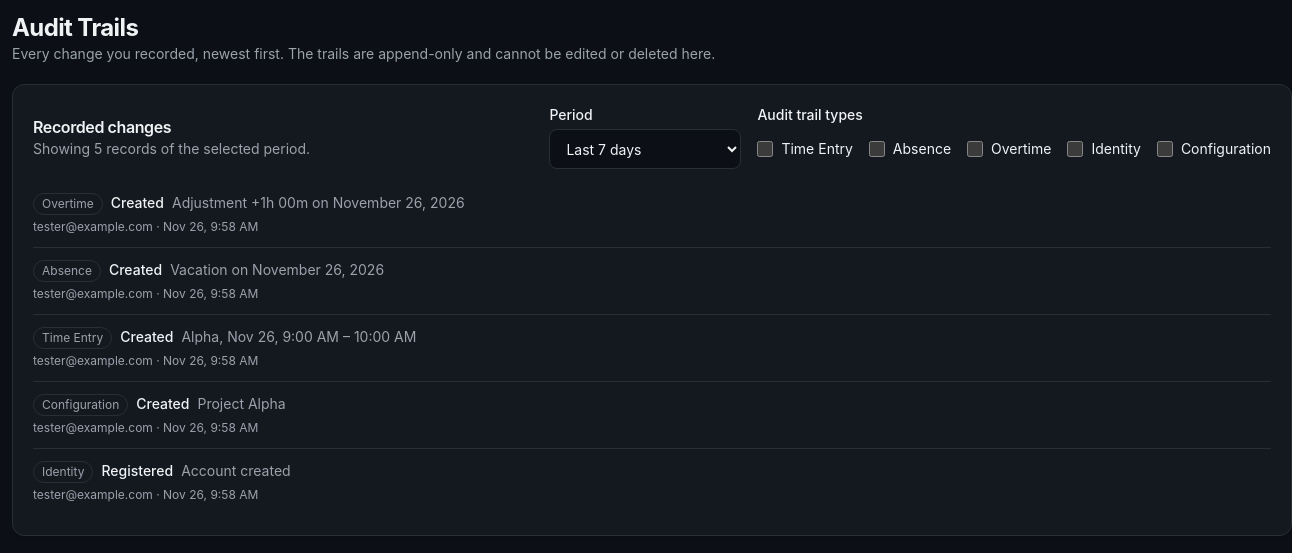
Test case: AuditTrailsPage › filters on a single type and on several types at once
Expected: the number of list items is 5, [33,181,1271,248]; [33,248,1271,315]; [33,315,1271,382]; [33,382,1271,449]; [33,461,291,502]
Click the checkbox labelled "Overtime": (975, 149) [967,141,983,157]
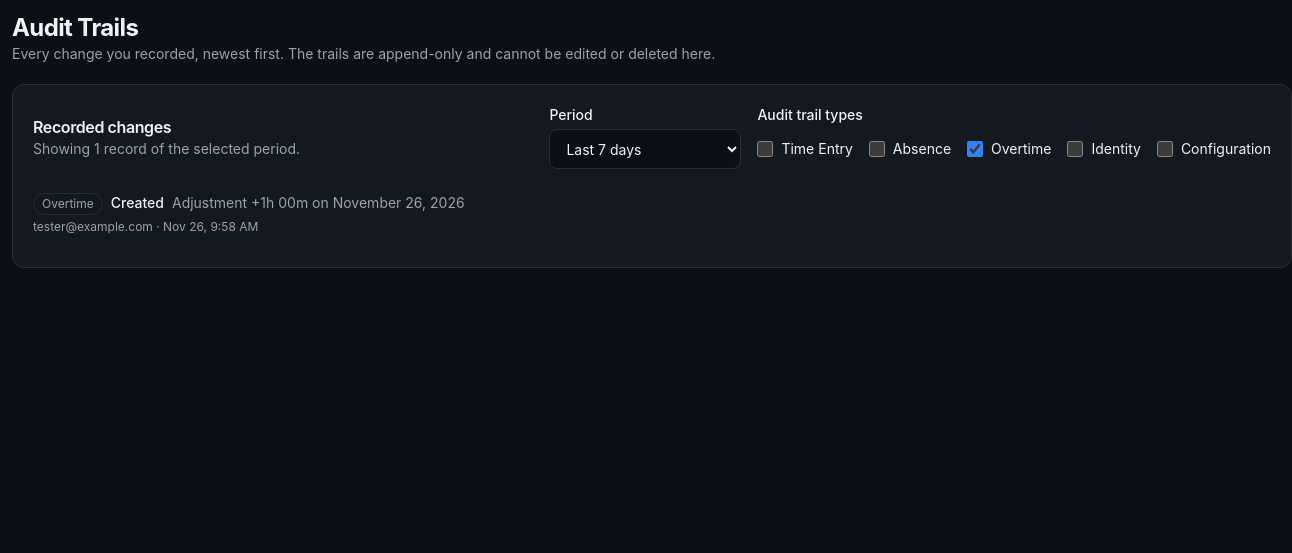
Expected: the text "Overtime" is shown, [33,193,103,215]
Now the number of list items is 1, box [33,193,465,234]
Click the checkbox labelled "Absence": (877, 149) [869,141,885,157]
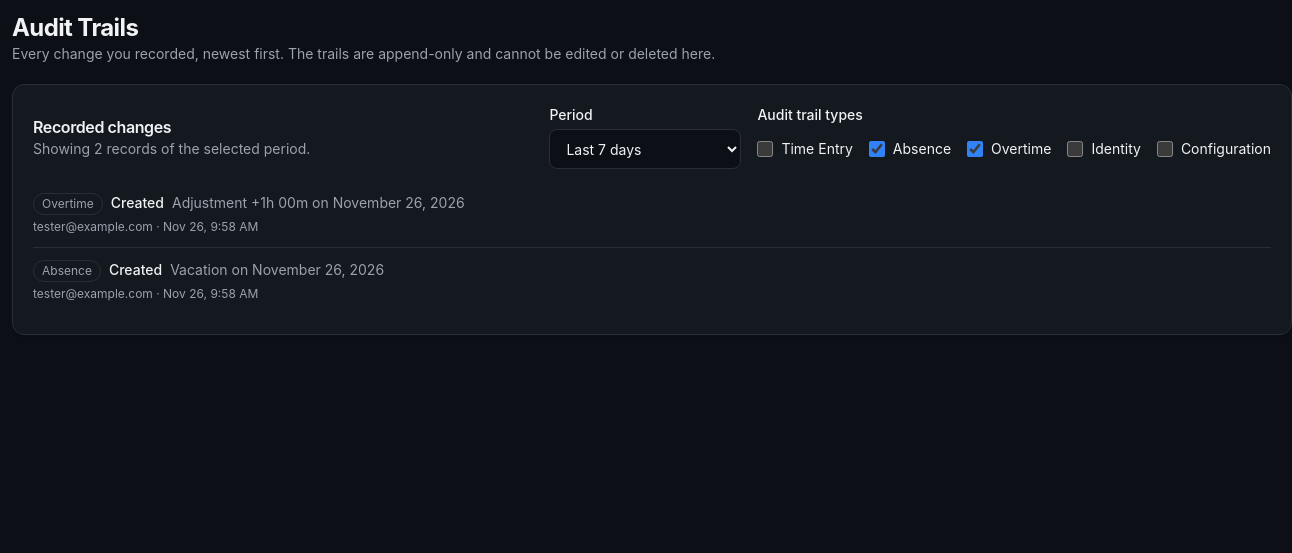
Now the number of list items is 2, box [33,181,1271,248]; [33,260,384,301]
Click the checkbox labelled "Overtime": (975, 149) [967,141,983,157]
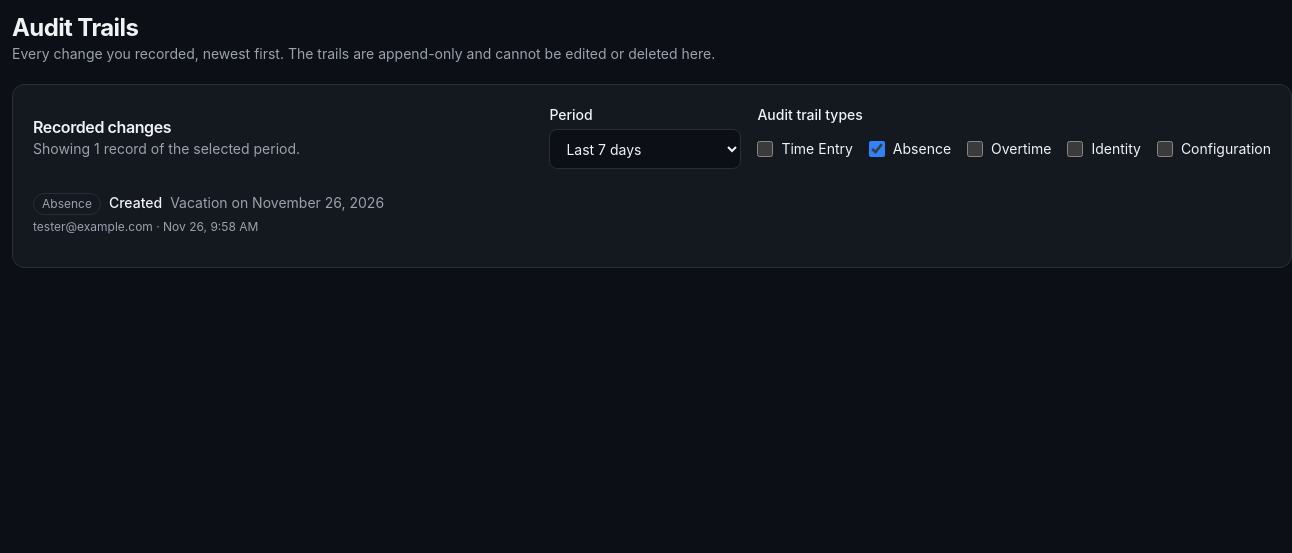
Click the checkbox labelled "Absence": (877, 149) [869,141,885,157]
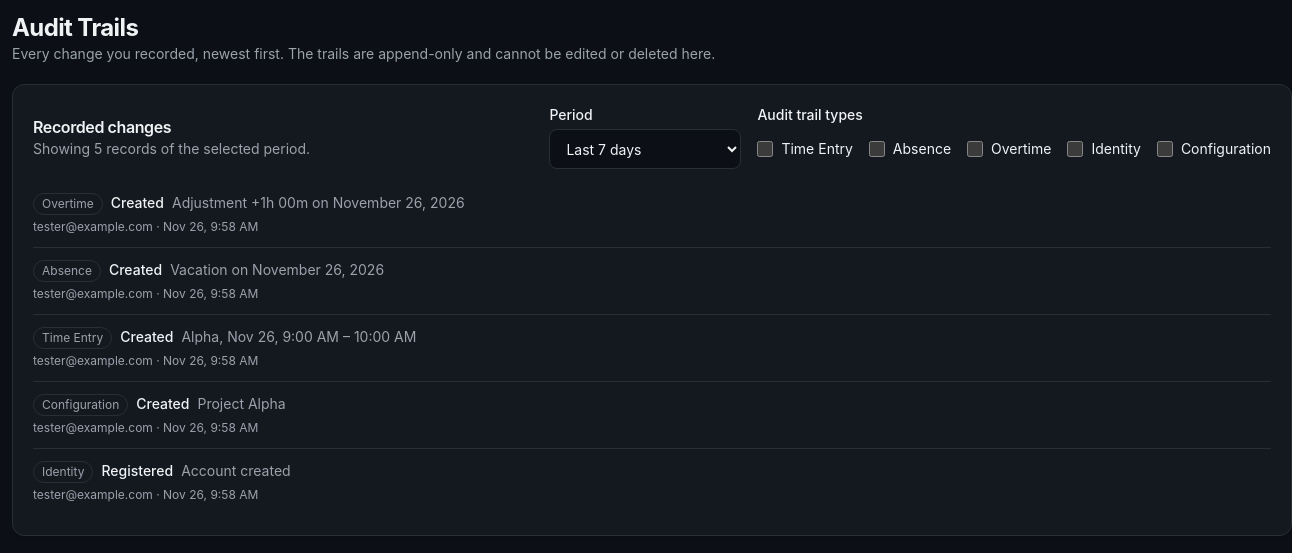
Now the number of list items is 5, box [33,181,1271,248]; [33,248,1271,315]; [33,315,1271,382]; [33,382,1271,449]; [33,461,291,502]
